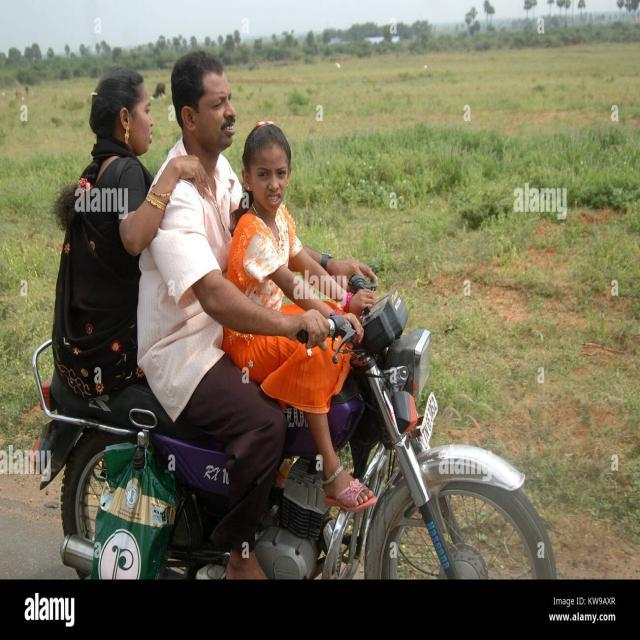No helmet: (162, 52, 248, 158)
Triple riding: (74, 54, 318, 383)
